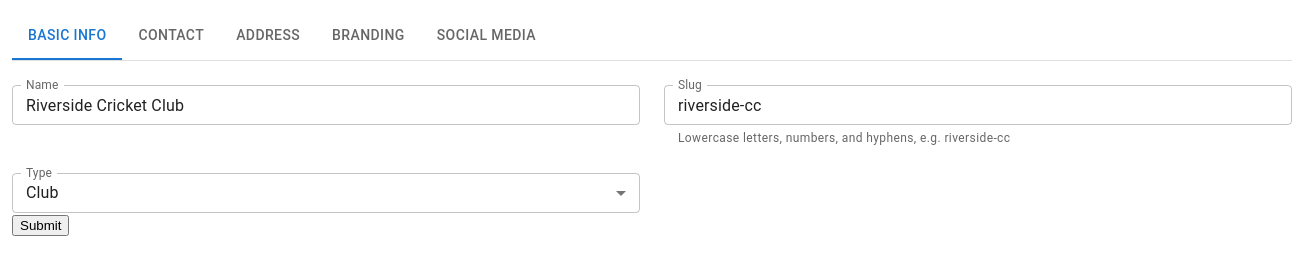
Test: ClubForm › renders a validation error for a malformed website submitted before the field is blurred (so WebsiteInput has not yet normalized it)
Click the tab "Contact": (171, 36) x1=122 y1=12 x2=220 y2=60
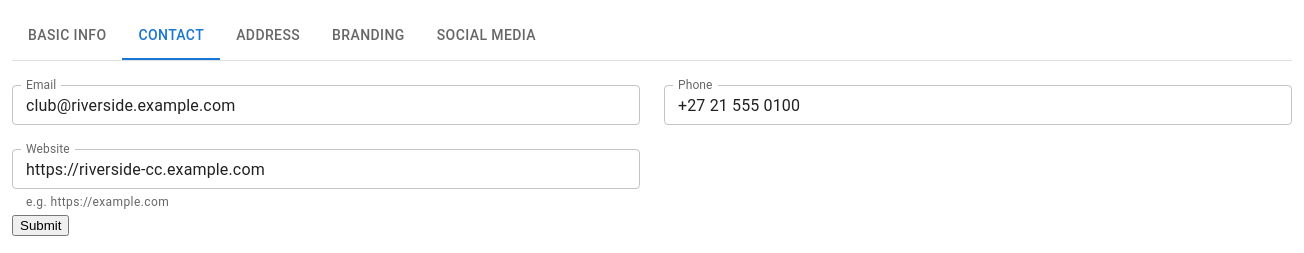
Replace the text in the field labelled "Website" with "not a url": (326, 169) x1=12 y1=149 x2=640 y2=189
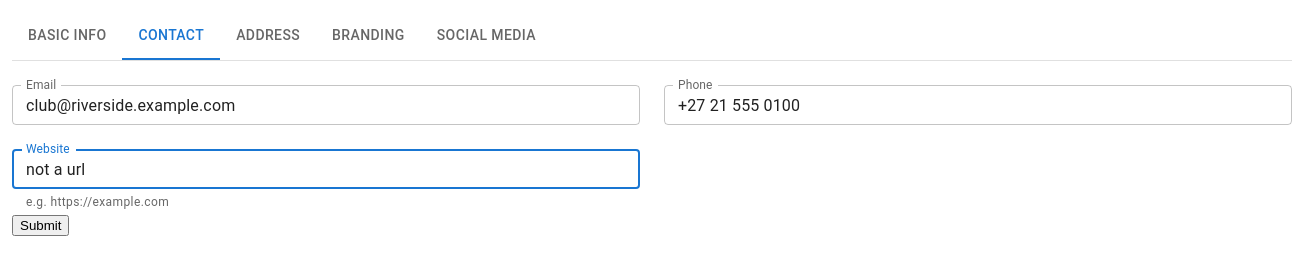
Submit the form labelled "Website", box x1=12 y1=85 x2=1292 y2=213
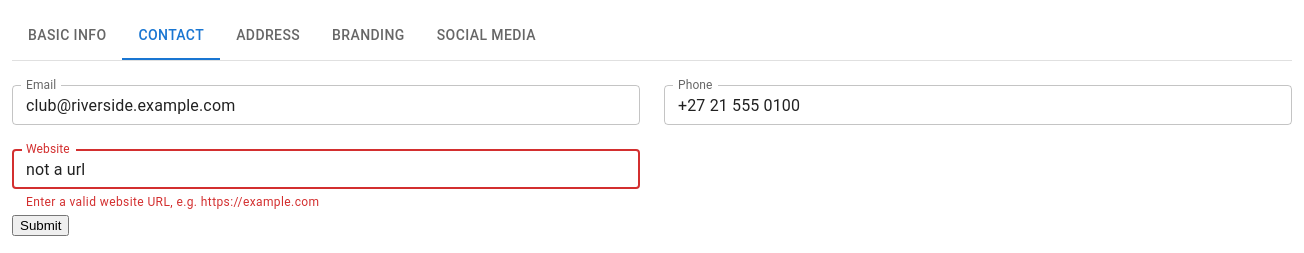
Expected: the text "Enter a valid website URL, e.g. https://example.com" is shown, x1=26 y1=195 x2=320 y2=209
